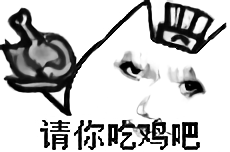dragon: (115, 57, 207, 119)
